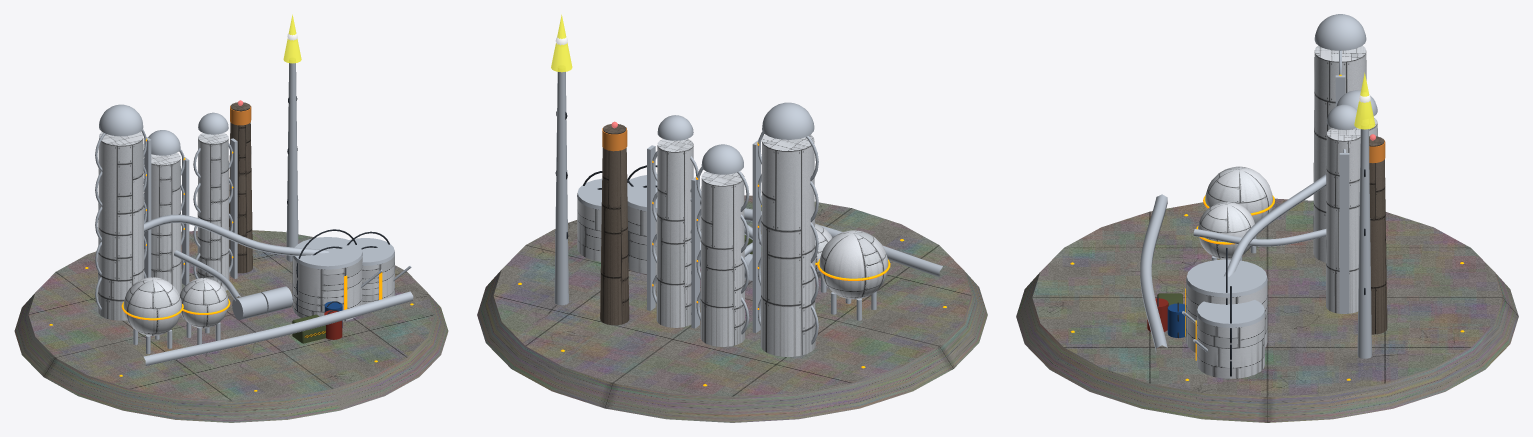
The model's file is refinery-T2.glb.
The picture shows the model from 3 angles, left to right: view 1: azimuth 30°, elevation 25°; view 2: azimuth 150°, elevation 25°; view 3: azimuth 270°, elevation 25°; orthographic projection. The views are drawn at different scales.
Visible parts, largest first — view 1: object 1, object 12, object 36, object 25, object 68, object 84, anim:smoke, object 54, object 60, object 47, object 69, object 82 (+13 smaller); view 2: object 1, object 12, object 25, object 36, anim:smoke, object 54, object 47, object 13, object 24, object 68, object 75, object 46 (+7 smaller); view 3: object 1, object 36, object 12, object 75, anim:smoke, object 47, object 54, object 69, object 60, object 84, object 46, object 13 (+7 smaller).
Part boxes in pixels (x1,y1,x2,y2): object 1: (14, 230, 448, 422); object 12: (97, 131, 144, 320); object 36: (197, 133, 229, 290); object 25: (144, 153, 181, 294); object 68: (292, 256, 362, 321); object 84: (143, 291, 413, 366); anim:smoke: (229, 102, 252, 273); object 54: (123, 277, 181, 335); object 60: (180, 278, 228, 328); object 47: (286, 63, 298, 261); object 69: (293, 237, 362, 269); object 82: (144, 214, 328, 255); object 1: (477, 195, 987, 422); object 12: (760, 134, 815, 356); object 25: (700, 171, 745, 346); object 36: (656, 139, 693, 327); anim:smoke: (600, 124, 629, 325); object 54: (819, 230, 888, 299); object 47: (554, 71, 568, 305); object 13: (762, 102, 814, 139); object 24: (752, 140, 760, 332); object 68: (627, 206, 701, 274); object 75: (577, 198, 601, 261); object 46: (647, 145, 655, 310); object 1: (1016, 198, 1518, 422); object 36: (1325, 128, 1360, 313); object 12: (1313, 45, 1366, 262); object 75: (1197, 315, 1264, 378); anim:smoke: (1369, 136, 1387, 334); object 47: (1357, 129, 1371, 358); object 54: (1205, 166, 1272, 223); object 69: (1186, 259, 1267, 297); object 60: (1198, 201, 1254, 259); object 84: (1140, 194, 1167, 352); object 46: (1339, 153, 1349, 313); object 13: (1314, 14, 1366, 50).
Bounding box in the file's own units: 6.2 × 4.2 × 6.2.
15 materials, 5 textured.
